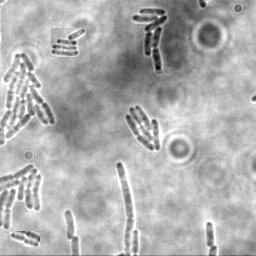Dividing: (114, 161, 133, 255), (10, 231, 40, 247), (204, 221, 215, 248)
Microcolony: (1, 51, 56, 147), (1, 162, 44, 231), (130, 8, 167, 72), (124, 106, 160, 153), (51, 28, 86, 57), (63, 208, 74, 240)
